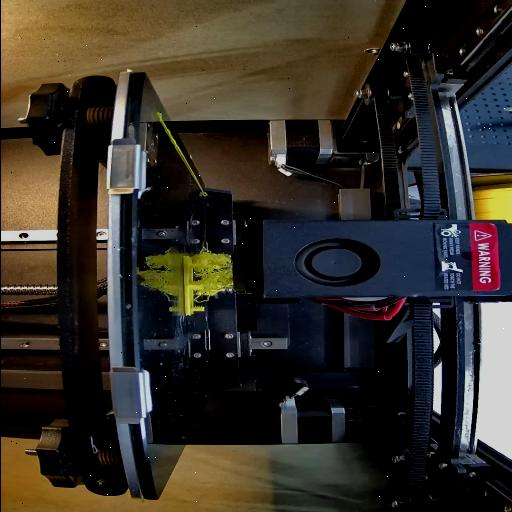spaghetti: (194, 248, 232, 302)
